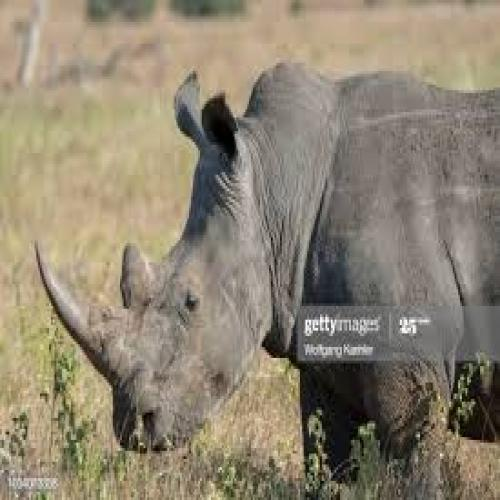rhino-endangered: (38, 55, 500, 497)
